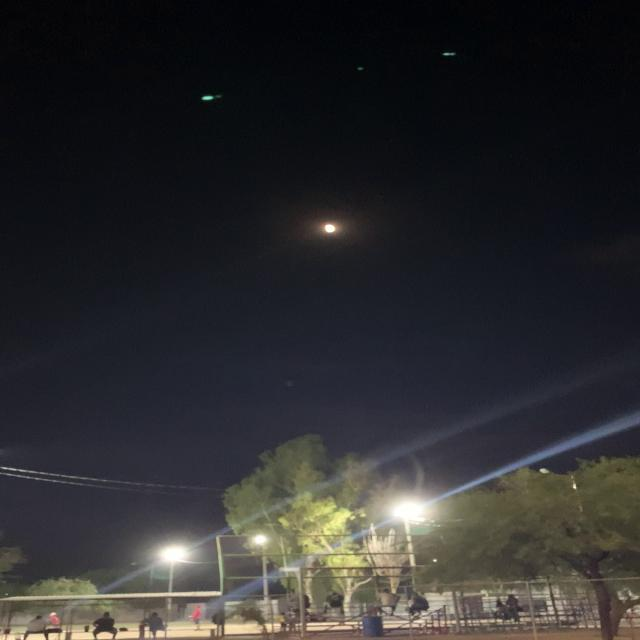moon: (302, 217, 358, 244)
